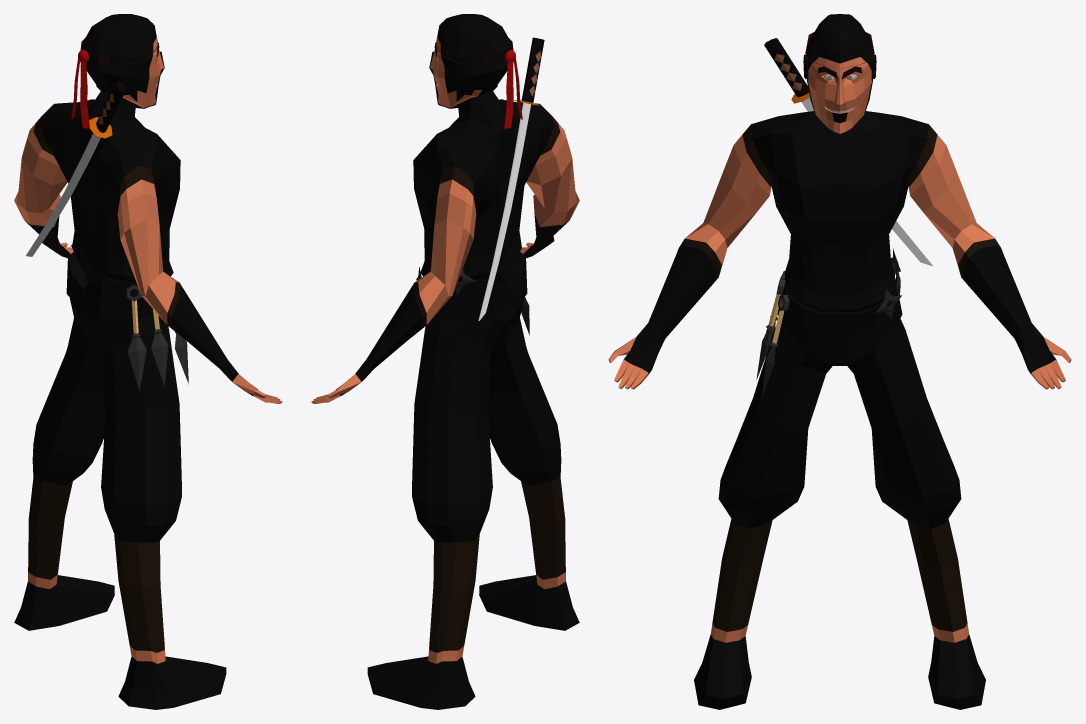
File: NinjaClassEXPORT.obj
3 renders of one model, left to right at view 1: azimuth 30°, elevation 25°; view 2: azimuth 150°, elevation 25°; view 3: azimuth 270°, elevation 25°, orthographic. The views are drawn at different scales.
Parts seen in each view (by area): view 1: Cube.006; view 2: Cube.006; view 3: Cube.006.
Part boxes in pixels (x1,y1,x2,y2): Cube.006: (14, 14, 282, 709); Cube.006: (311, 14, 579, 709); Cube.006: (608, 14, 1071, 709).
Size of the model in its own units: 1.33 by 7.37 by 4.64.
